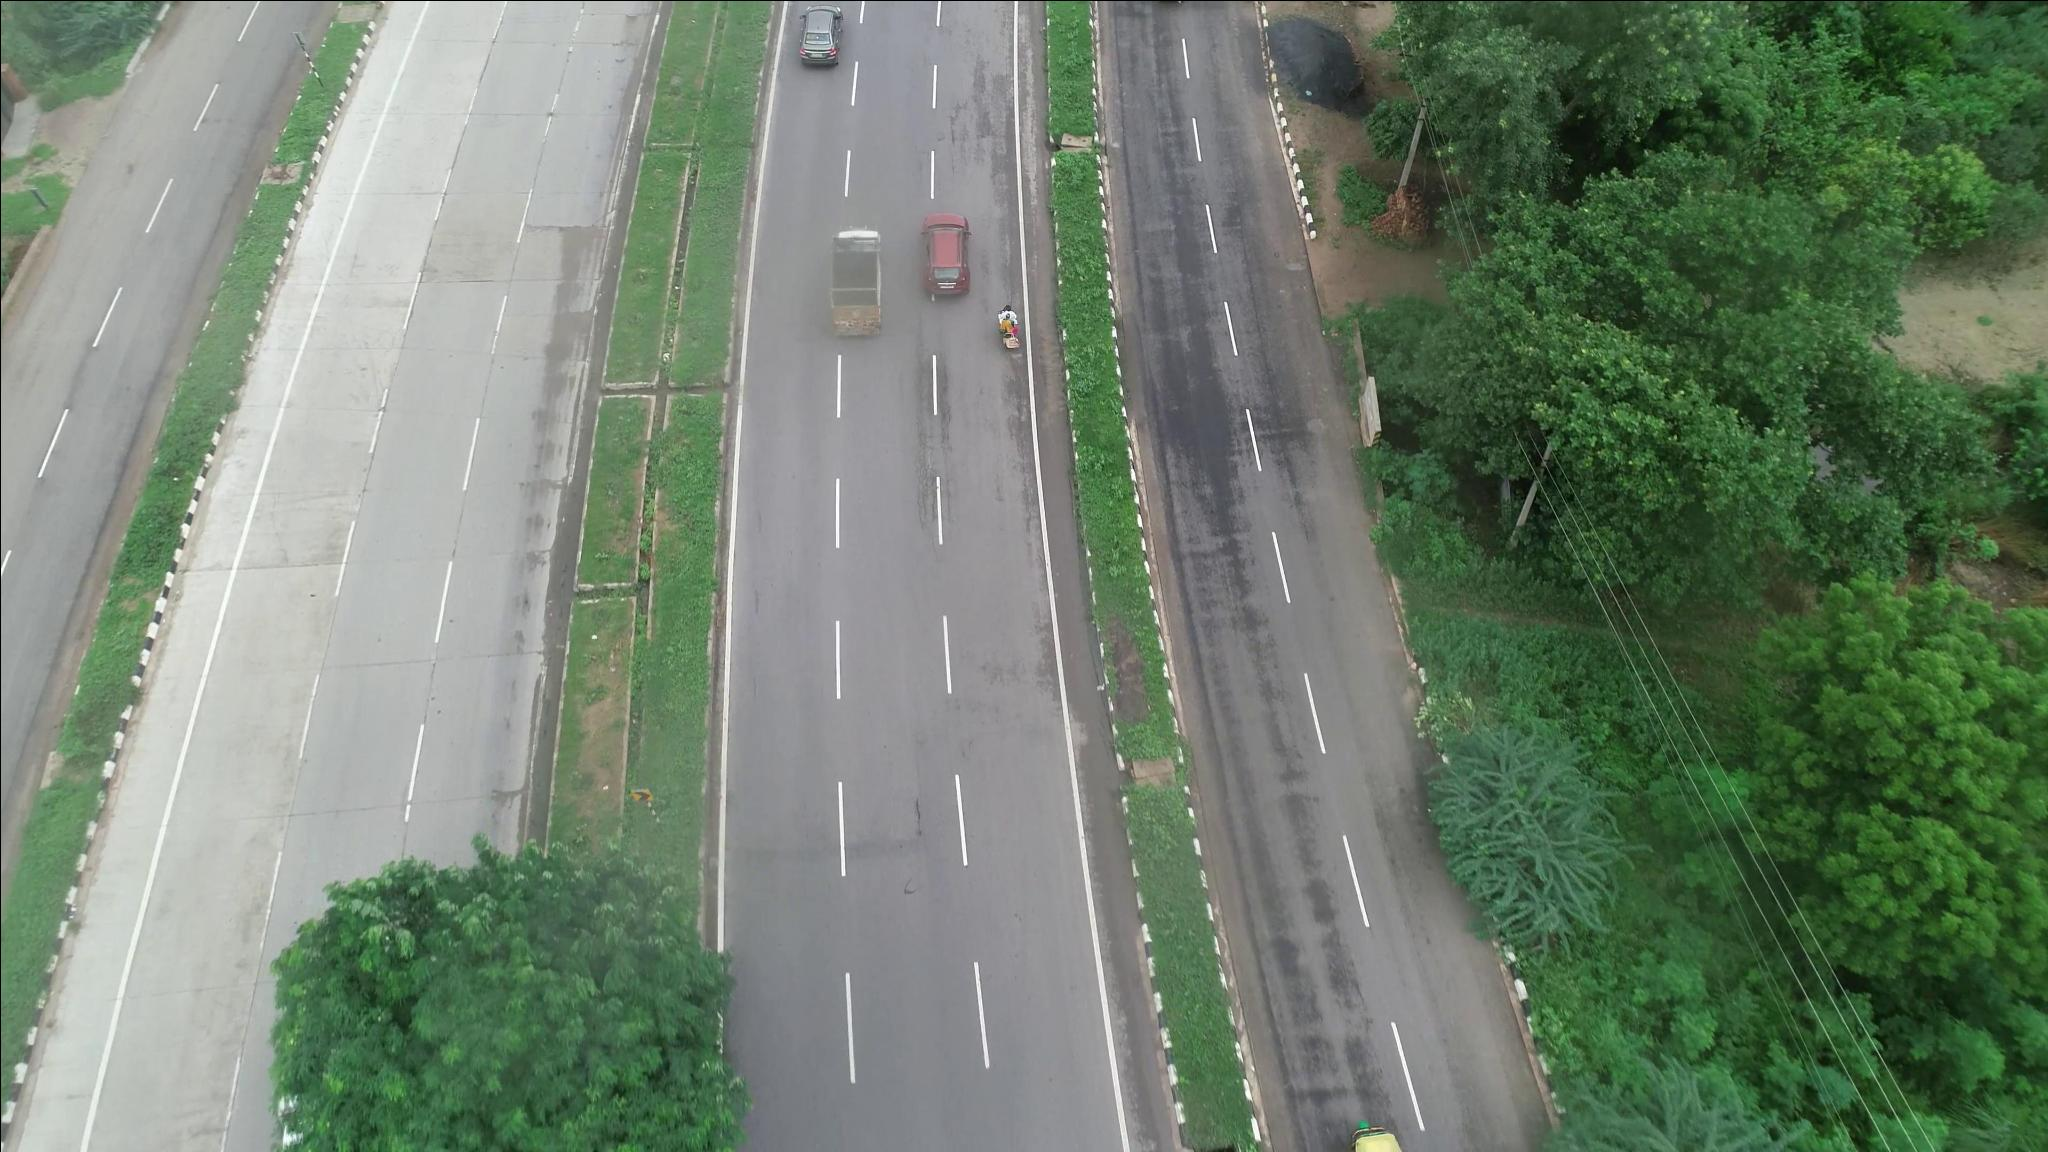Cracks: (913, 361, 964, 518)
